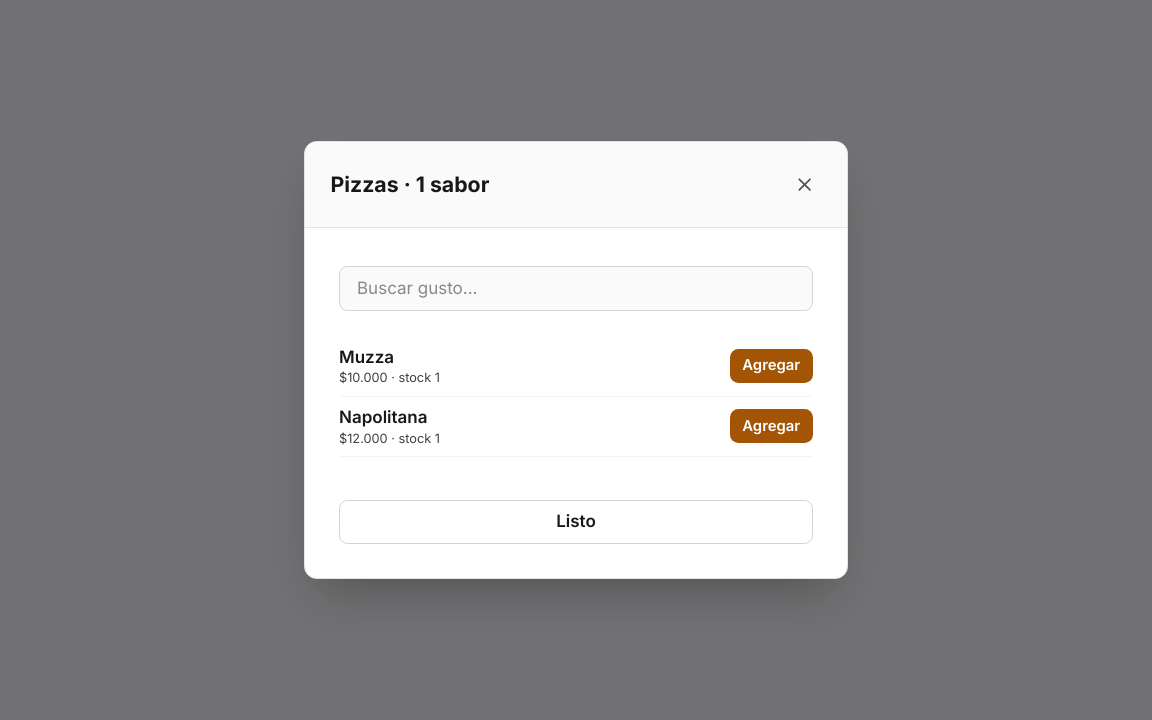
Test: Ventas con prepizzas (US-29 CA-5, D-3) › el stock de cada gusto es el de la prepizza menos lo que ya está en el pedido
The width and height of the screenshot is (1152, 720).
Check: the text "$12.000 · stock 1" is shown, box [339,431,440,446]
Click the button "Agregar" in the row of "Muzza" at {"x": 771, "y": 366}, box [730,349,813,383]
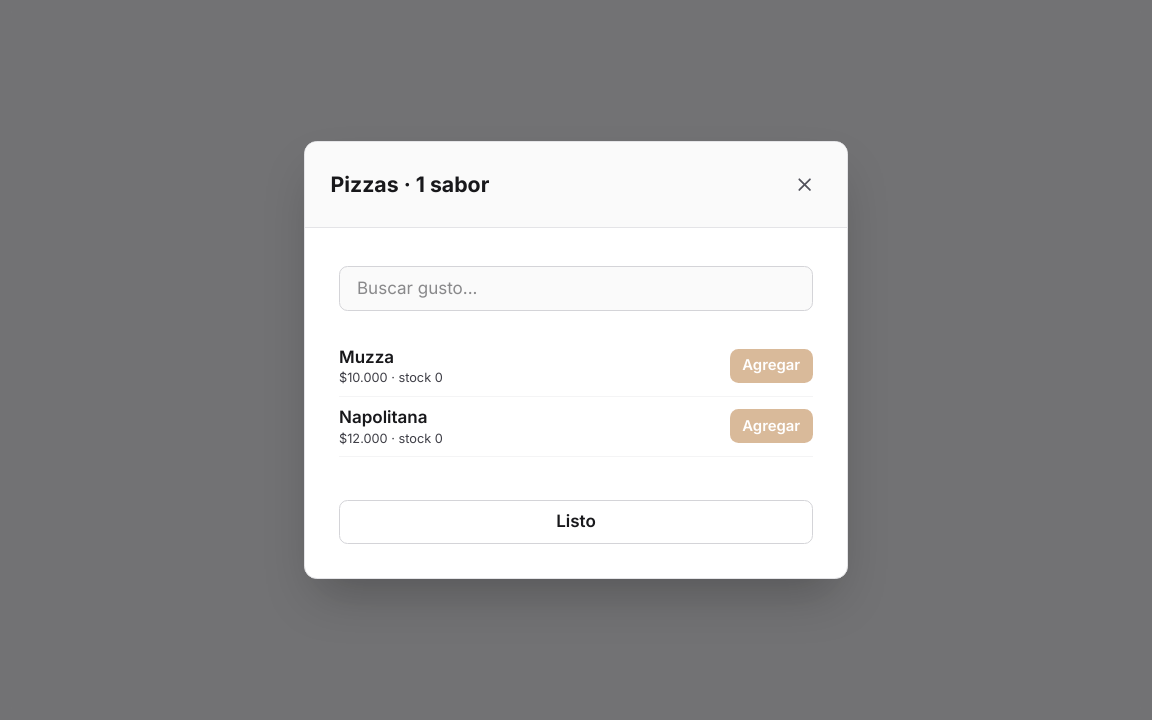
Check: the text "$12.000 · stock 0" is shown, box [339,431,443,446]
Check: the button "Agregar" in the row of "Napolitana" is disabled, box [730,409,813,443]
